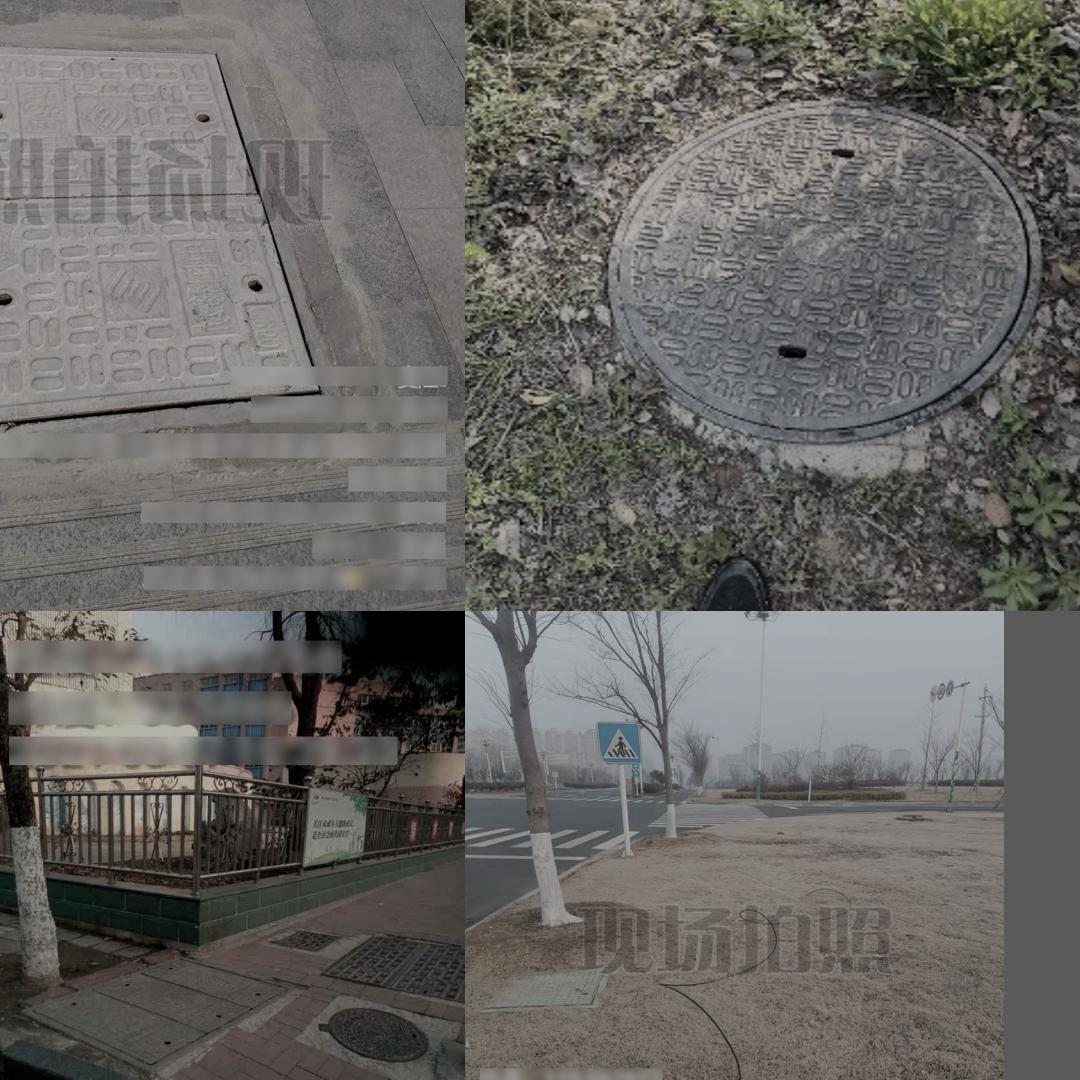good: (603, 102, 1038, 441), (0, 33, 322, 422), (20, 956, 293, 1075), (319, 932, 465, 1008), (317, 1007, 428, 1061), (480, 965, 608, 1011), (267, 928, 345, 953)
